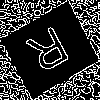R: (24, 25, 76, 83)
